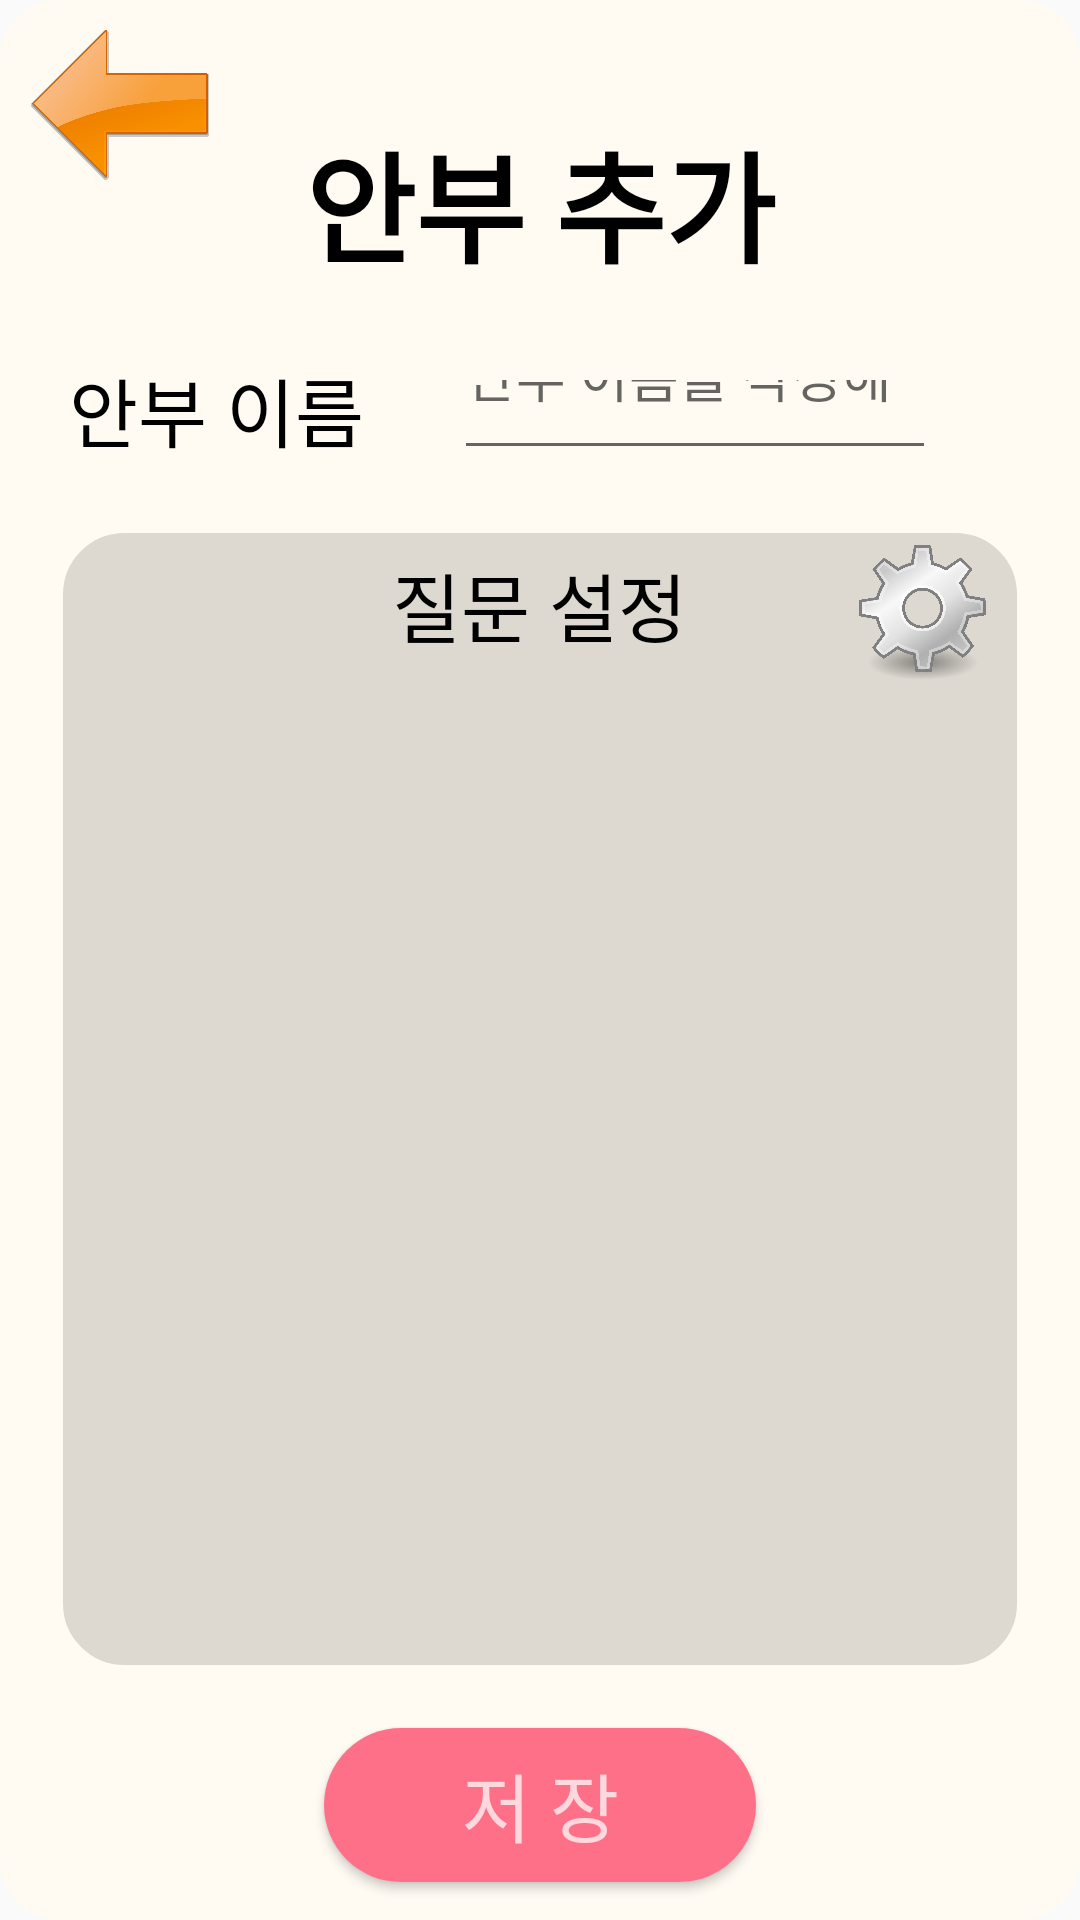

Icons on this 1080x1920 Android screen, each with its box as (x1, y1, x2, y2):
backbtn: (31, 30, 209, 180)
optionbtn: (859, 545, 986, 675)
